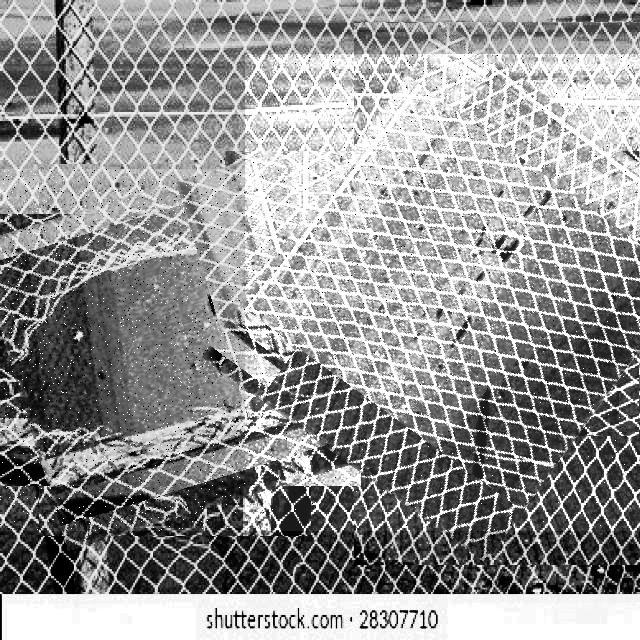anomaly-fence: (0, 169, 356, 531)
fences: (245, 54, 640, 531)
